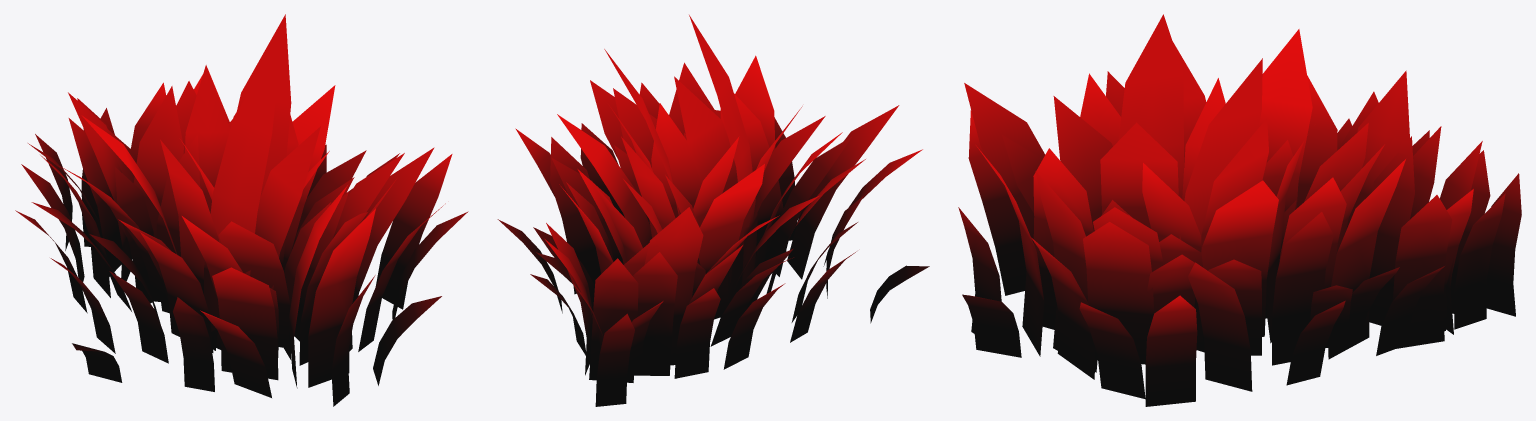
File: MESH_Plant_Grass_01.fbx
3 renders of one model, left to right at view 1: azimuth 30°, elevation 25°; view 2: azimuth 150°, elevation 25°; view 3: azimuth 270°, elevation 25°, orthographic. The views are drawn at different scales.
Parts seen in each view (by area): view 1: MESH_Plant_Grass_01; view 2: MESH_Plant_Grass_01; view 3: MESH_Plant_Grass_01.
Boxes of the visible parts, x1=… form: MESH_Plant_Grass_01: x1=15, y1=14, x2=468, y2=406; MESH_Plant_Grass_01: x1=497, y1=15, x2=929, y2=406; MESH_Plant_Grass_01: x1=958, y1=14, x2=1521, y2=406.
Bounding box in the file's own units: 76.47 × 52.98 × 80.01.
